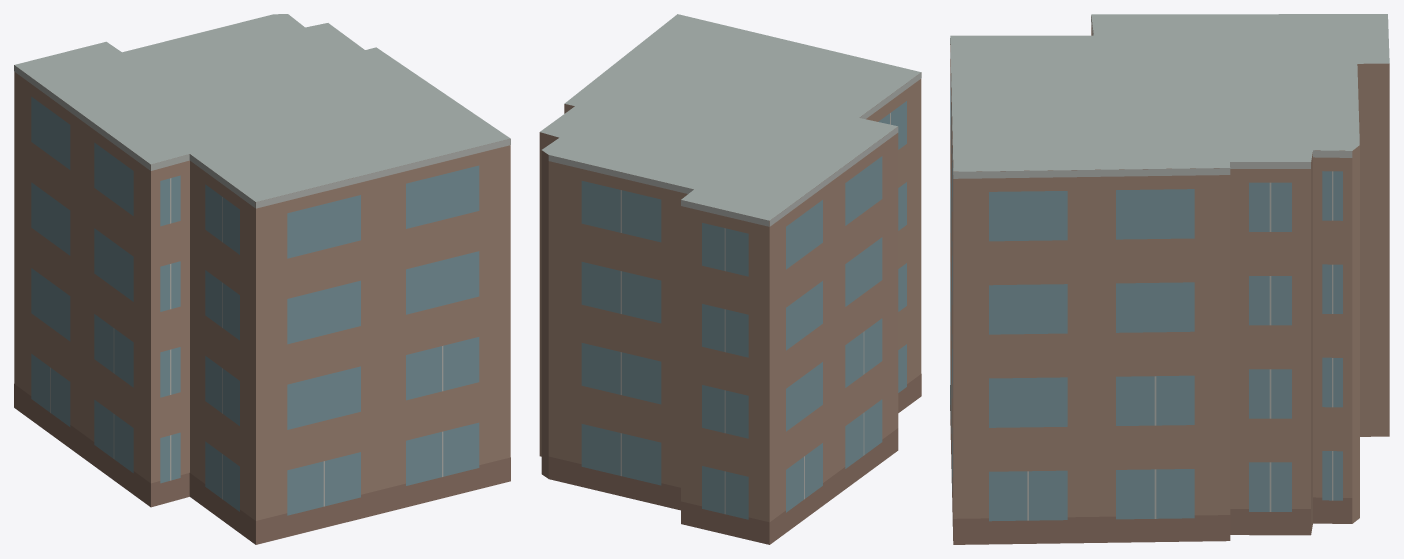
The model's file is survey-upis-32652905.glb.
The picture shows the model from 3 angles, left to right: view 1: azimuth 30°, elevation 25°; view 2: azimuth 150°, elevation 25°; view 3: azimuth 270°, elevation 25°; orthographic projection. The views are drawn at different scales.
Parts seen in each view (by area): view 1: survey-upis-32652905.tmp; view 2: survey-upis-32652905.tmp; view 3: survey-upis-32652905.tmp.
Boxes of the visible parts, x1,y1,x2,y2 form: survey-upis-32652905.tmp: [14, 14, 510, 544]; survey-upis-32652905.tmp: [539, 14, 921, 544]; survey-upis-32652905.tmp: [950, 14, 1389, 544].
Size of the model in its own units: 11.62 by 12.8 by 13.67.
